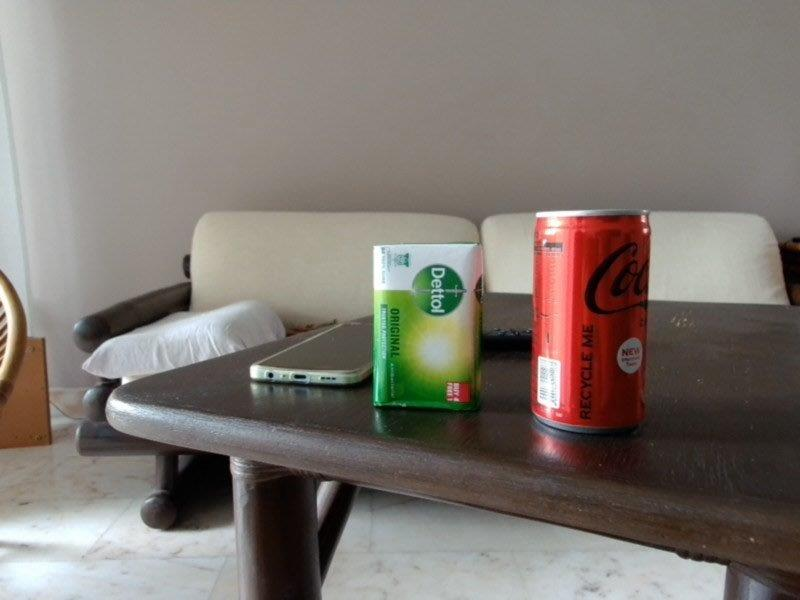Coke: (532, 208, 651, 437)
Dettol: (370, 242, 484, 412)
